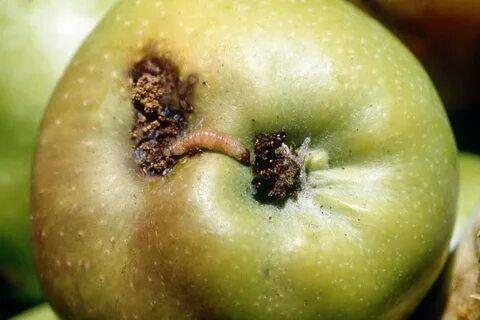Apple: (29, 3, 459, 320)
